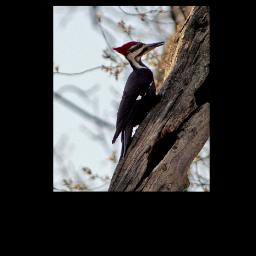Woodpecker: (110, 41, 167, 161)
